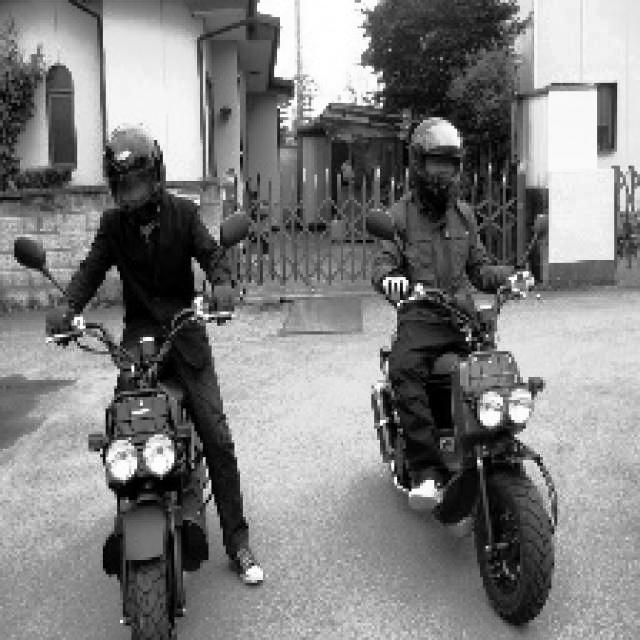Bike: (368, 286, 576, 630), (57, 293, 217, 639)
